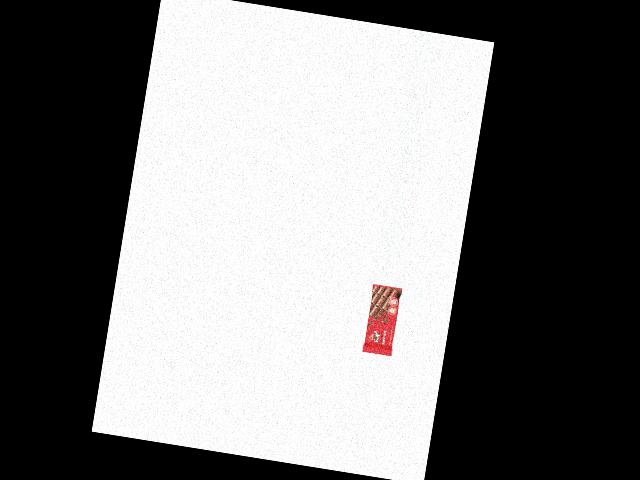chocolate: (362, 283, 402, 357)
